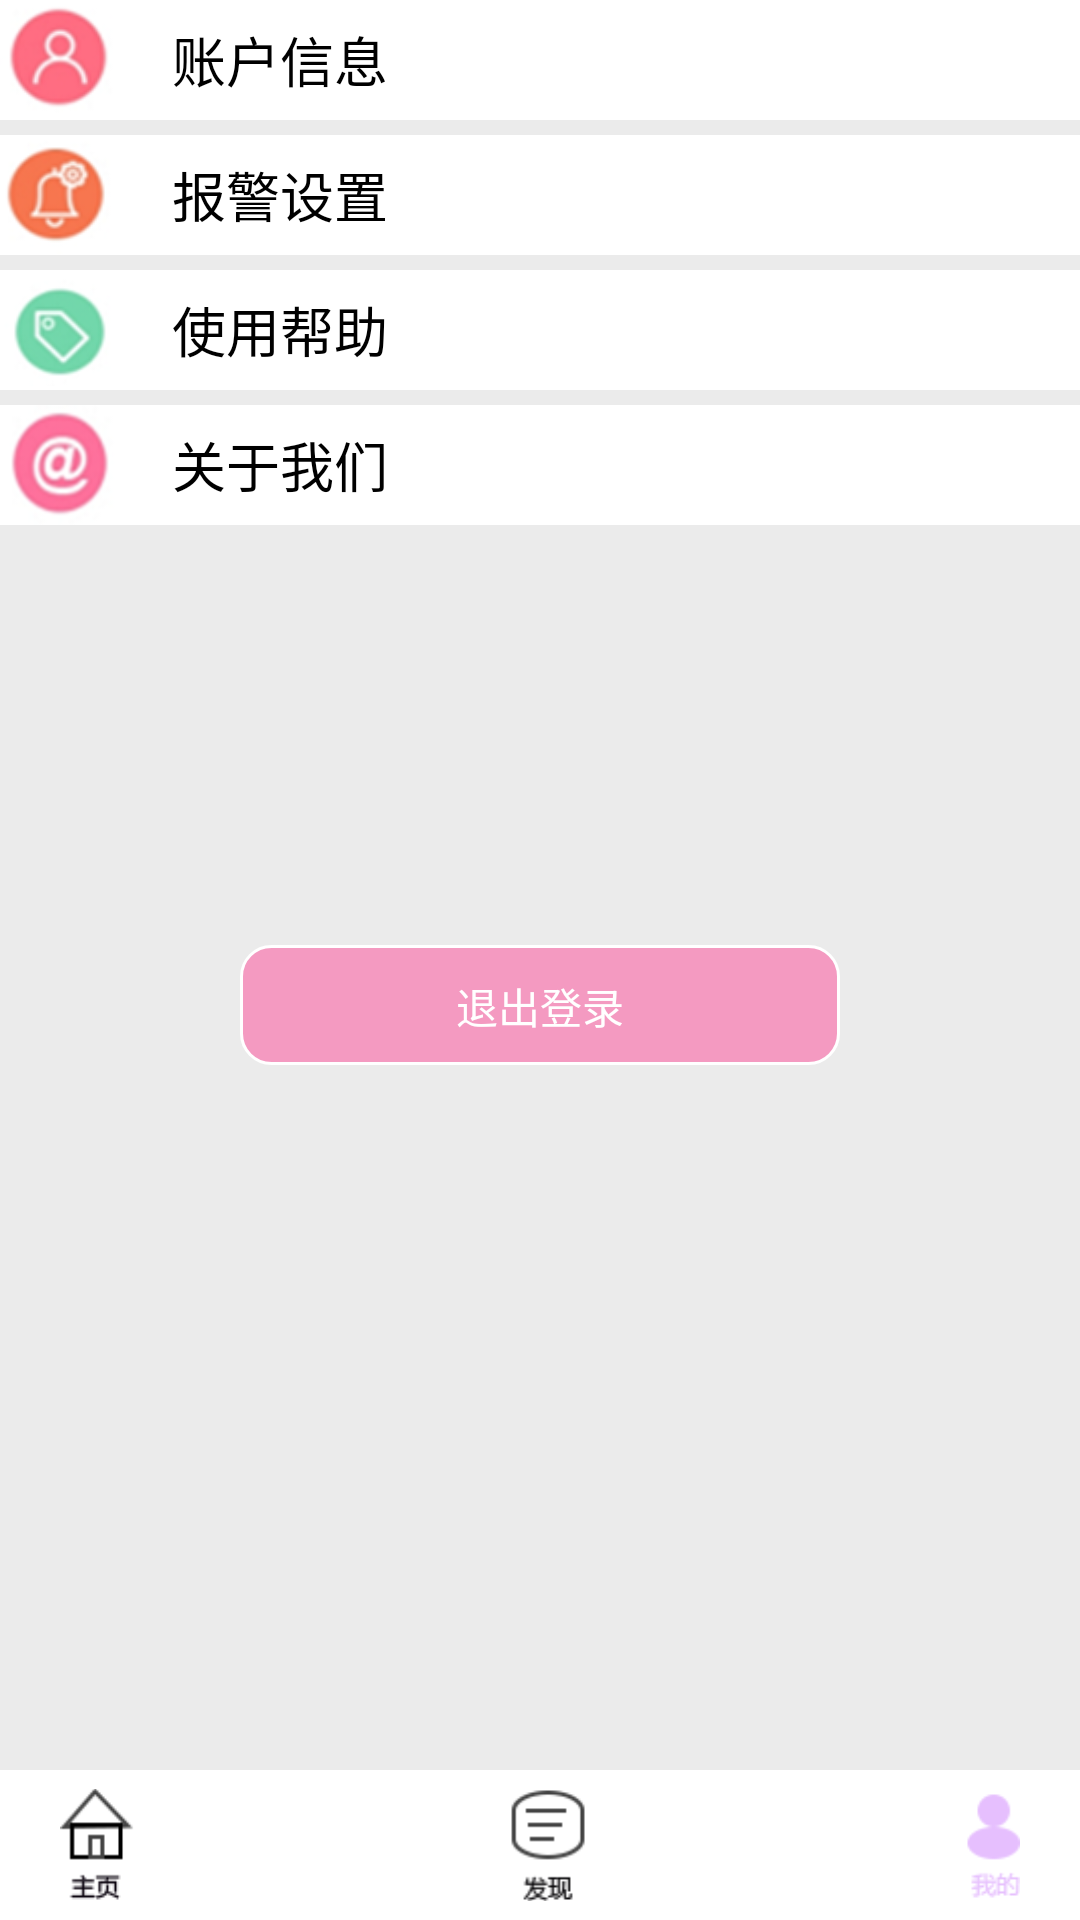

Screen size 1080 x 1920. Icon name, then its center in pixels as point (x, y):
account: point (58, 57)
baojing: point (56, 194)
